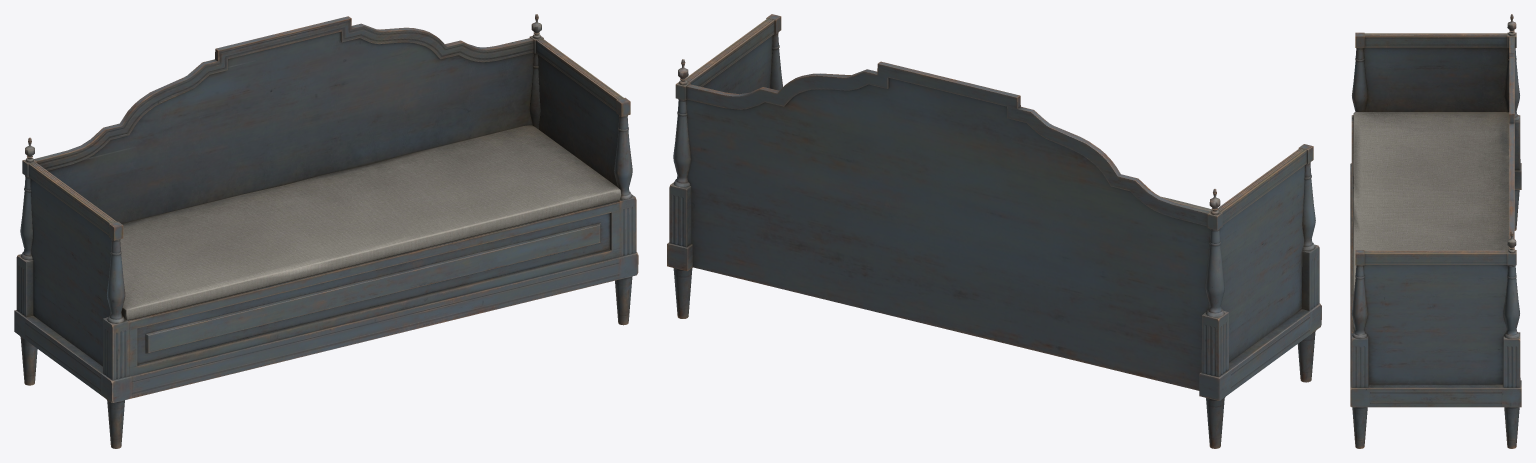
The model's file is painted_wooden_sofa.glb.
3 renders of one model, left to right at view 1: azimuth 30°, elevation 25°; view 2: azimuth 150°, elevation 25°; view 3: azimuth 270°, elevation 25°, orthographic. The views are drawn at different scales.
Visible parts, largest first — view 1: painted_wooden_sofa; view 2: painted_wooden_sofa; view 3: painted_wooden_sofa.
Part boxes in pixels (x1,y1,x2,y2): painted_wooden_sofa: (14,14,638,448); painted_wooden_sofa: (667,14,1321,448); painted_wooden_sofa: (1350,14,1521,448).
Size of the model in its own units: 2.45 by 1.28 by 0.7872.
Materials: 1 (1 with a texture image).
